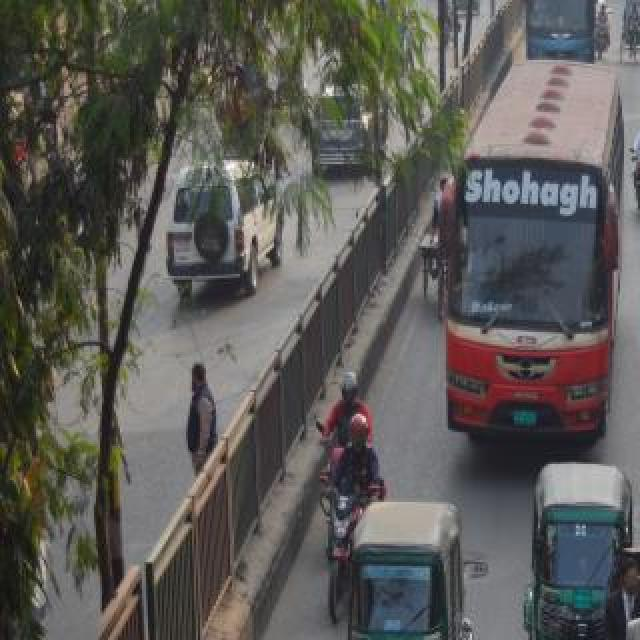bus: (443, 107, 621, 427), (524, 0, 592, 60), (595, 0, 611, 68)
car: (156, 166, 288, 304), (307, 64, 393, 180)
motorbike: (322, 418, 364, 632), (636, 114, 640, 212)
